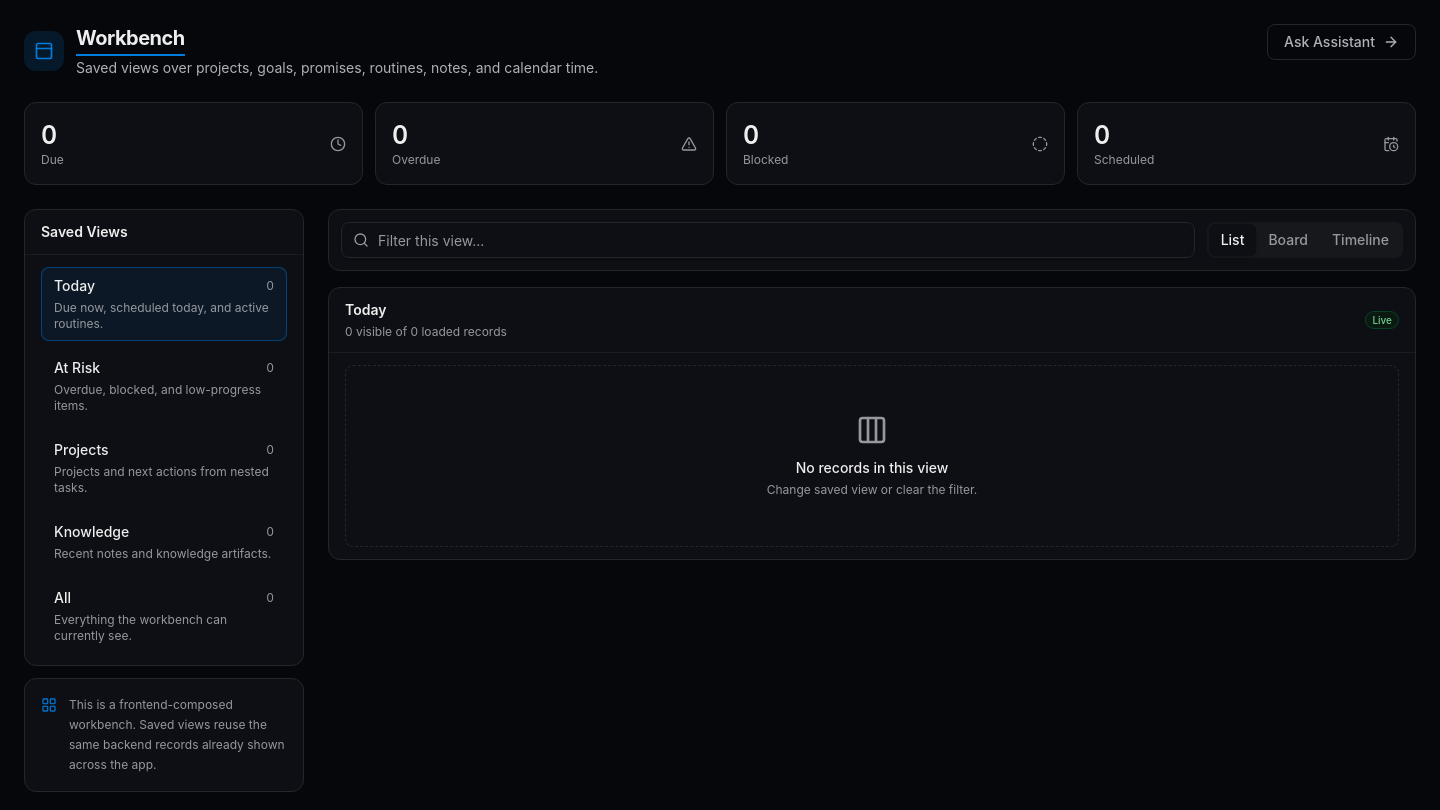
Test: WorkbenchPage › shows a clear empty state and can switch to an empty knowledge view
expect the text "No records in this view" is shown: met, box [796,458,948,478]
expect the text "0 visible of 0 loaded records" is shown: met, box [345,324,507,340]
What coordinates should you click on to do the following:
click the text "Knowledge"
I would click on:
 (92, 532)
Its box is [54,522,129,542].
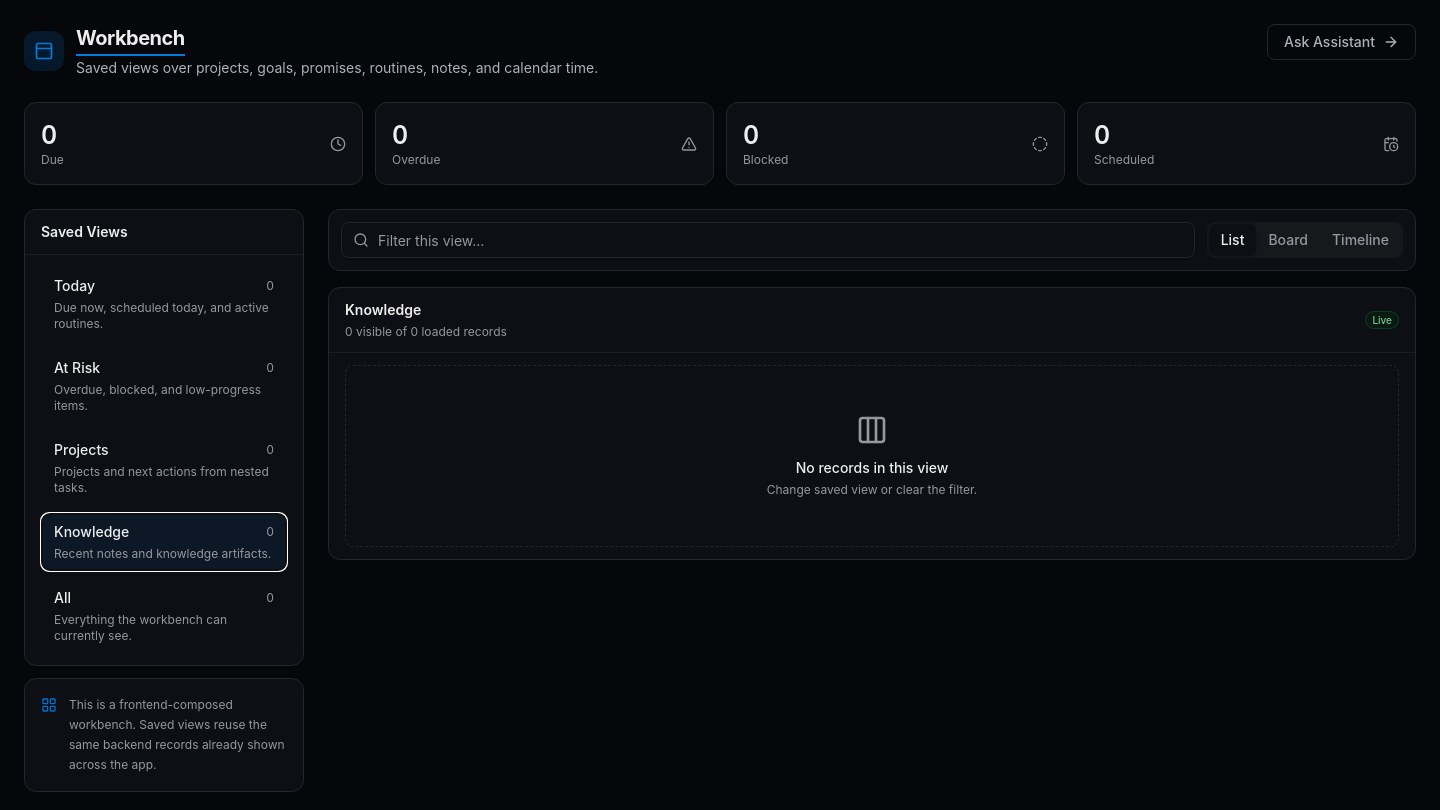
expect the text "No records in this view" is shown: met, box [796,458,948,478]
expect the heading "Knowledge" is shown: met, box [345,301,421,318]
